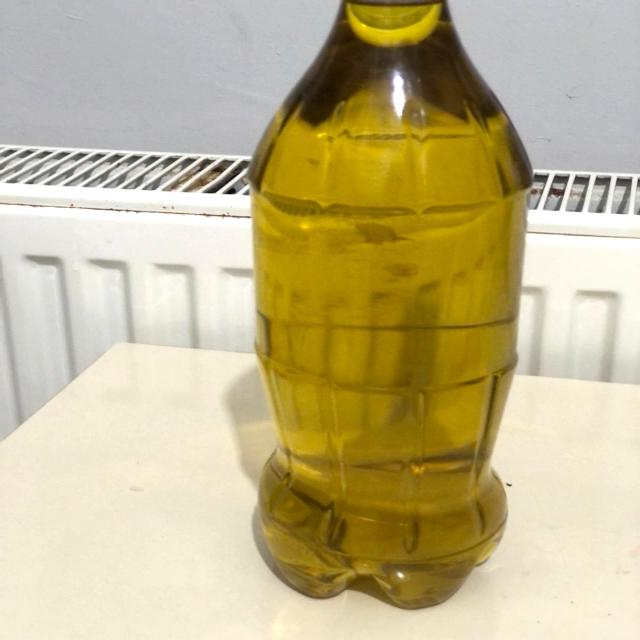olive oil: (244, 0, 543, 613)
